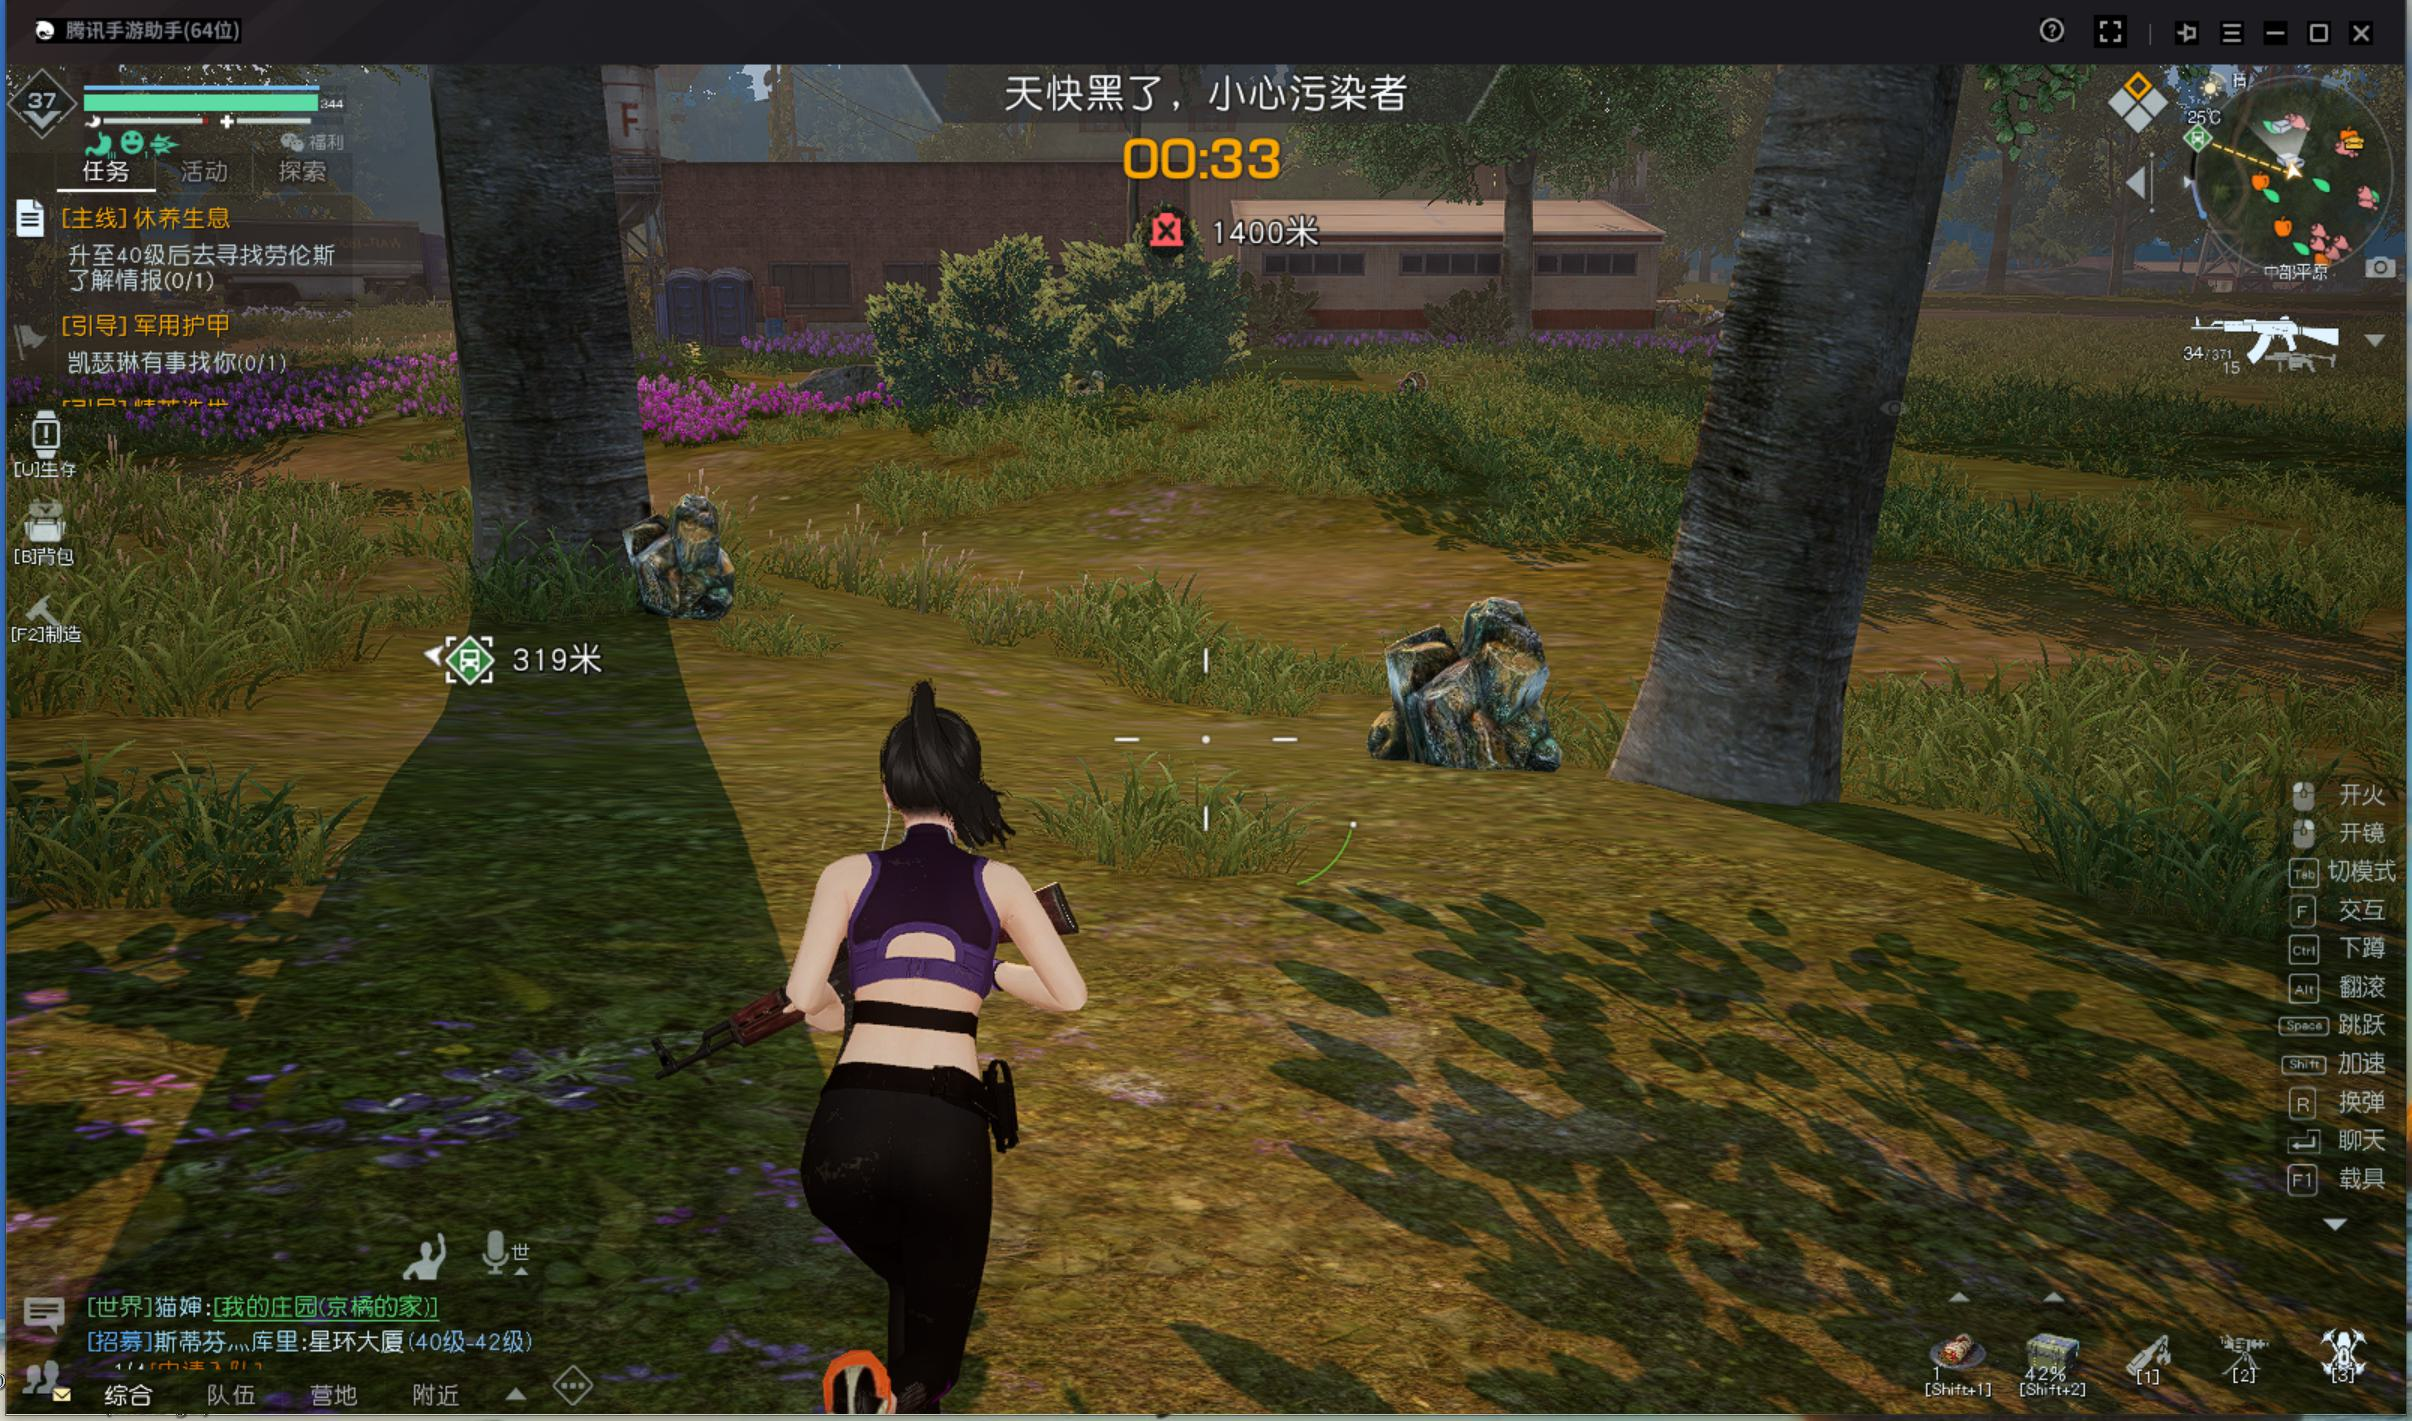stone: (1355, 590, 1573, 785), (611, 492, 775, 633)
tree: (1644, 200, 1876, 815), (426, 103, 658, 496)
